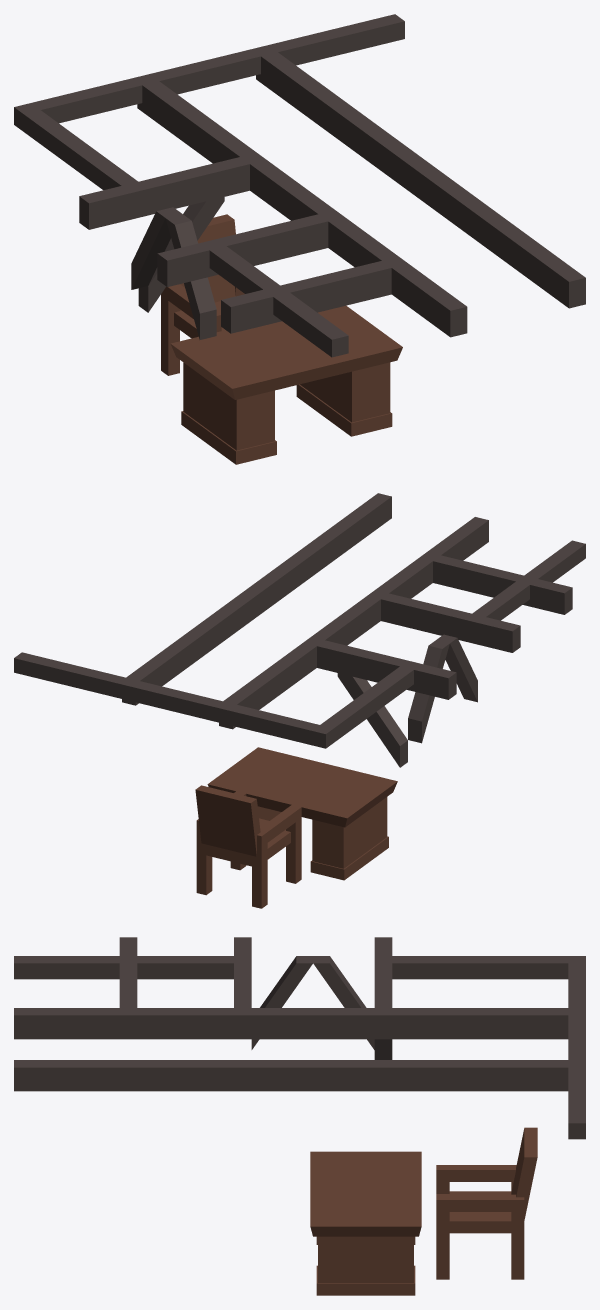
Rendered from study_alcove_collider.gltf.
The picture shows the model from 3 angles, top to bottom: view 1: azimuth 30°, elevation 25°; view 2: azimuth 150°, elevation 25°; view 3: azimuth 270°, elevation 25°; orthographic projection. The views are drawn at different scales.
Visible parts, largest first — view 1: CeilingBars, Table, Chair; view 2: CeilingBars, Table, Chair; view 3: CeilingBars, Table, Chair.
Boxes of the visible parts, left/top/right/bottom form: CeilingBars: left=14, top=14, right=585, bottom=357; Table: left=171, top=305, right=402, bottom=464; Chair: left=161, top=214, right=244, bottom=375; CeilingBars: left=14, top=493, right=585, bottom=767; Table: left=207, top=747, right=397, bottom=880; Chair: left=195, top=785, right=301, bottom=908; CeilingBars: left=14, top=937, right=585, bottom=1139; Table: left=310, top=1151, right=421, bottom=1295; Chair: left=436, top=1127, right=537, bottom=1279.
Size of what is drawn, in the model's own units: 5 by 3 by 6.5.
Materials: 2 (2 with a texture image).
